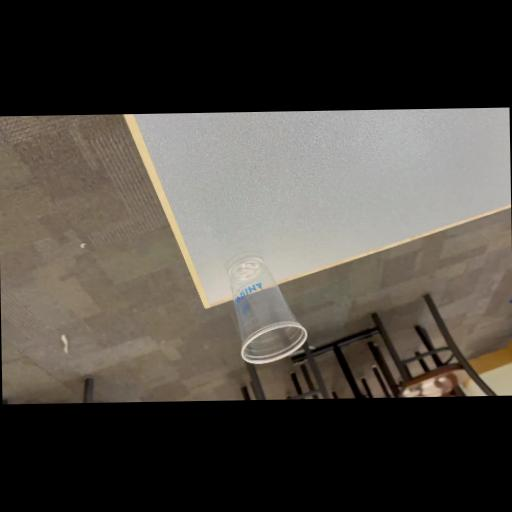lp_plastic_cup: (231, 254, 311, 364)
